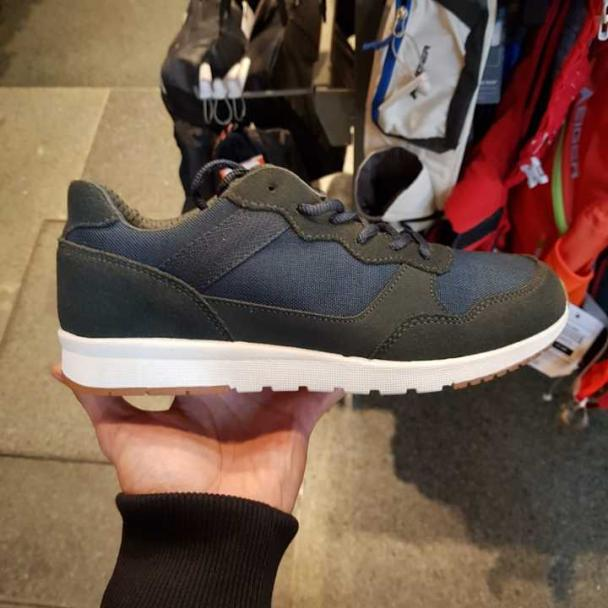Sepatu: (53, 165, 566, 406)
